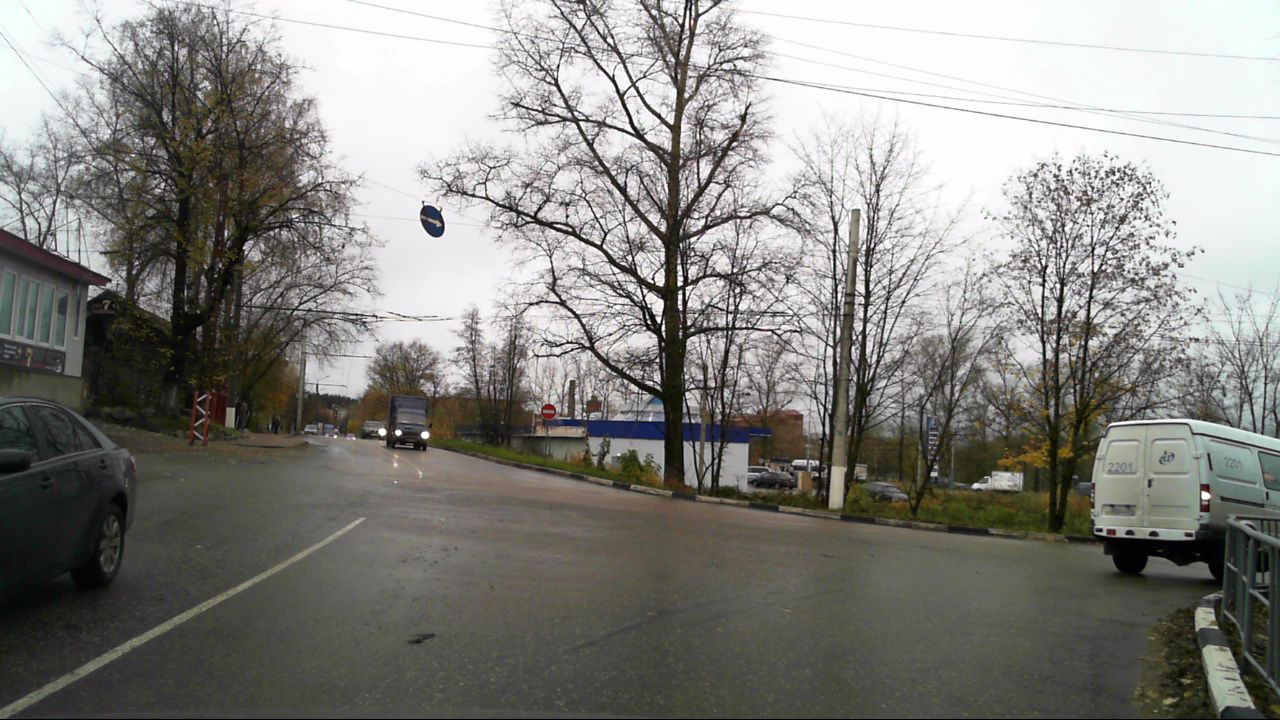Turn Right: (420, 205, 446, 238)
